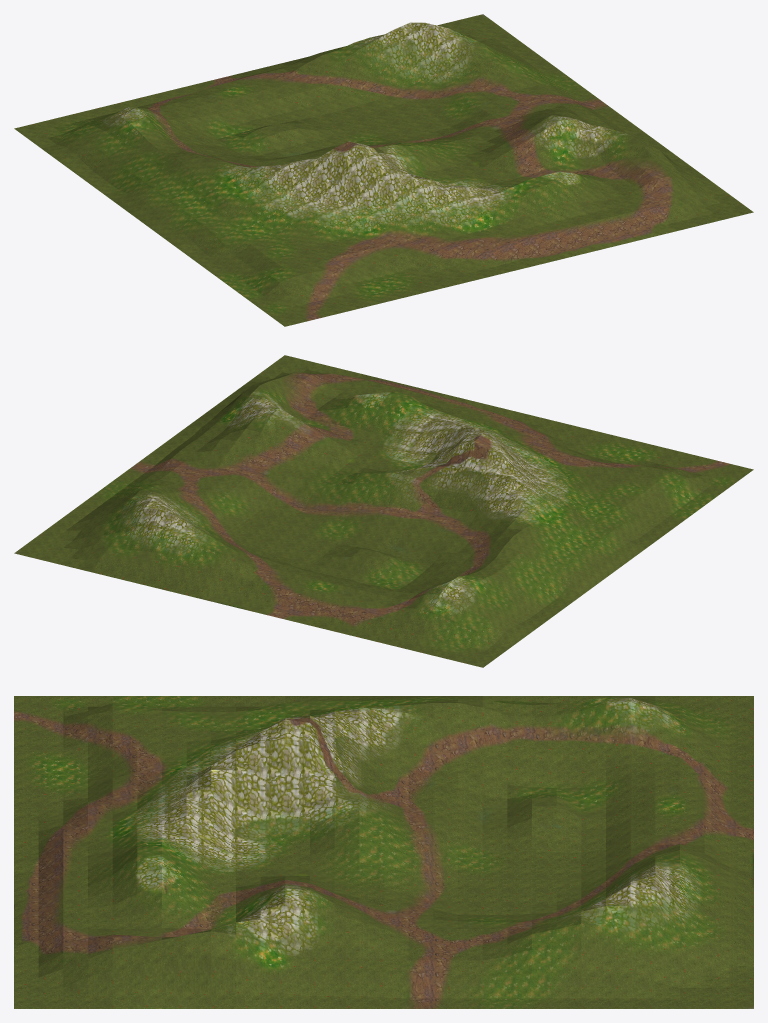
File: heightmap.glb
3 views of the same model, one above another, from view 1: azimuth 30°, elevation 25°; view 2: azimuth 150°, elevation 25°; view 3: azimuth 270°, elevation 25° (orthographic). The views are drawn at different scales.
Visible parts, largest first — view 1: Grid.000; view 2: Grid.000; view 3: Grid.000.
Part boxes in pixels (bbox=[...]): Grid.000: bbox=[14, 14, 753, 326]; Grid.000: bbox=[14, 355, 753, 667]; Grid.000: bbox=[14, 696, 753, 1008].
Size of what is drawn, in the model's own units: 11.76 by 1.6 by 11.76.
1 material, 1 textured.
